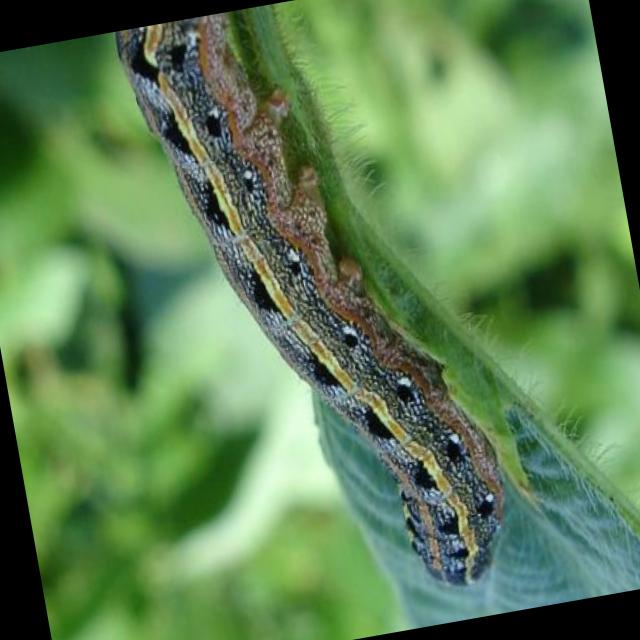armyworm: (108, 1, 528, 640)
